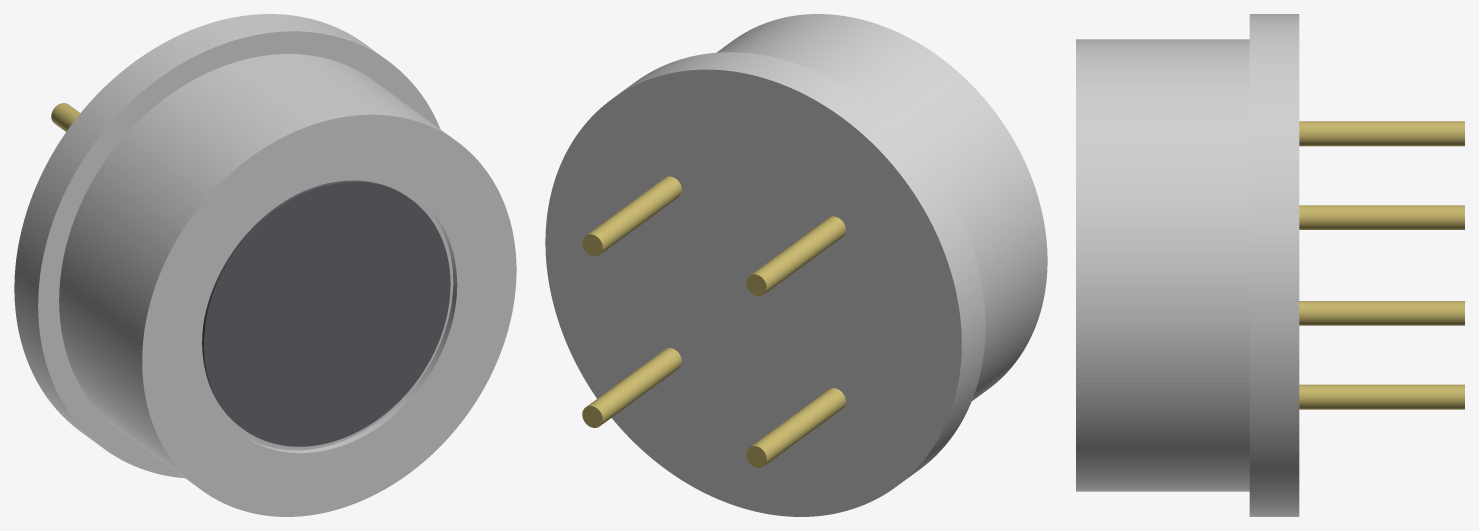
Rendered from mlx90614.glb.
3 renders of one model, left to right at view 1: azimuth 30°, elevation 25°; view 2: azimuth 150°, elevation 25°; view 3: azimuth 270°, elevation 25°, orthographic. The views are drawn at different scales.
Parts seen in each view (by area): view 1: housing, extra; view 2: housing, pins; view 3: housing, pins.
Boxes of the visible parts, <box> form: housing: <box>14,14,516,516</box>; extra: <box>202,180,450,446</box>; housing: <box>545,14,1047,516</box>; pins: <box>582,176,845,467</box>; housing: <box>1076,14,1299,516</box>; pins: <box>1299,121,1464,409</box>.
Bounding box in the file's own units: 9.12 × 9.12 × 7.05.
